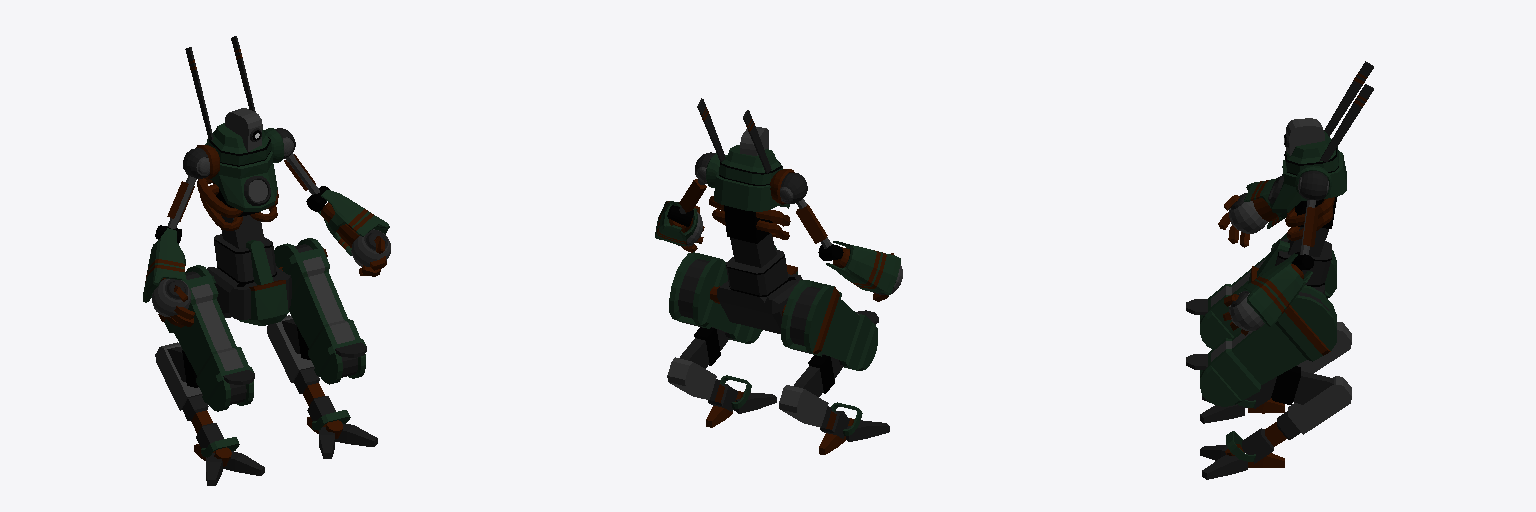
Rendered from George.obj.
3 views of the same model, side by side, from view 1: azimuth 30°, elevation 25°; view 2: azimuth 150°, elevation 25°; view 3: azimuth 270°, elevation 25° (orthographic).
Parts seen in each view (by area): view 1: George_Cube.004; view 2: George_Cube.004; view 3: George_Cube.004.
Boxes of the visible parts, x1,y1,x2,y2 form: George_Cube.004: [143, 36, 390, 485]; George_Cube.004: [655, 98, 902, 454]; George_Cube.004: [1186, 61, 1373, 479].
Bounding box in the file's own units: 4.16 × 6.08 × 2.84.